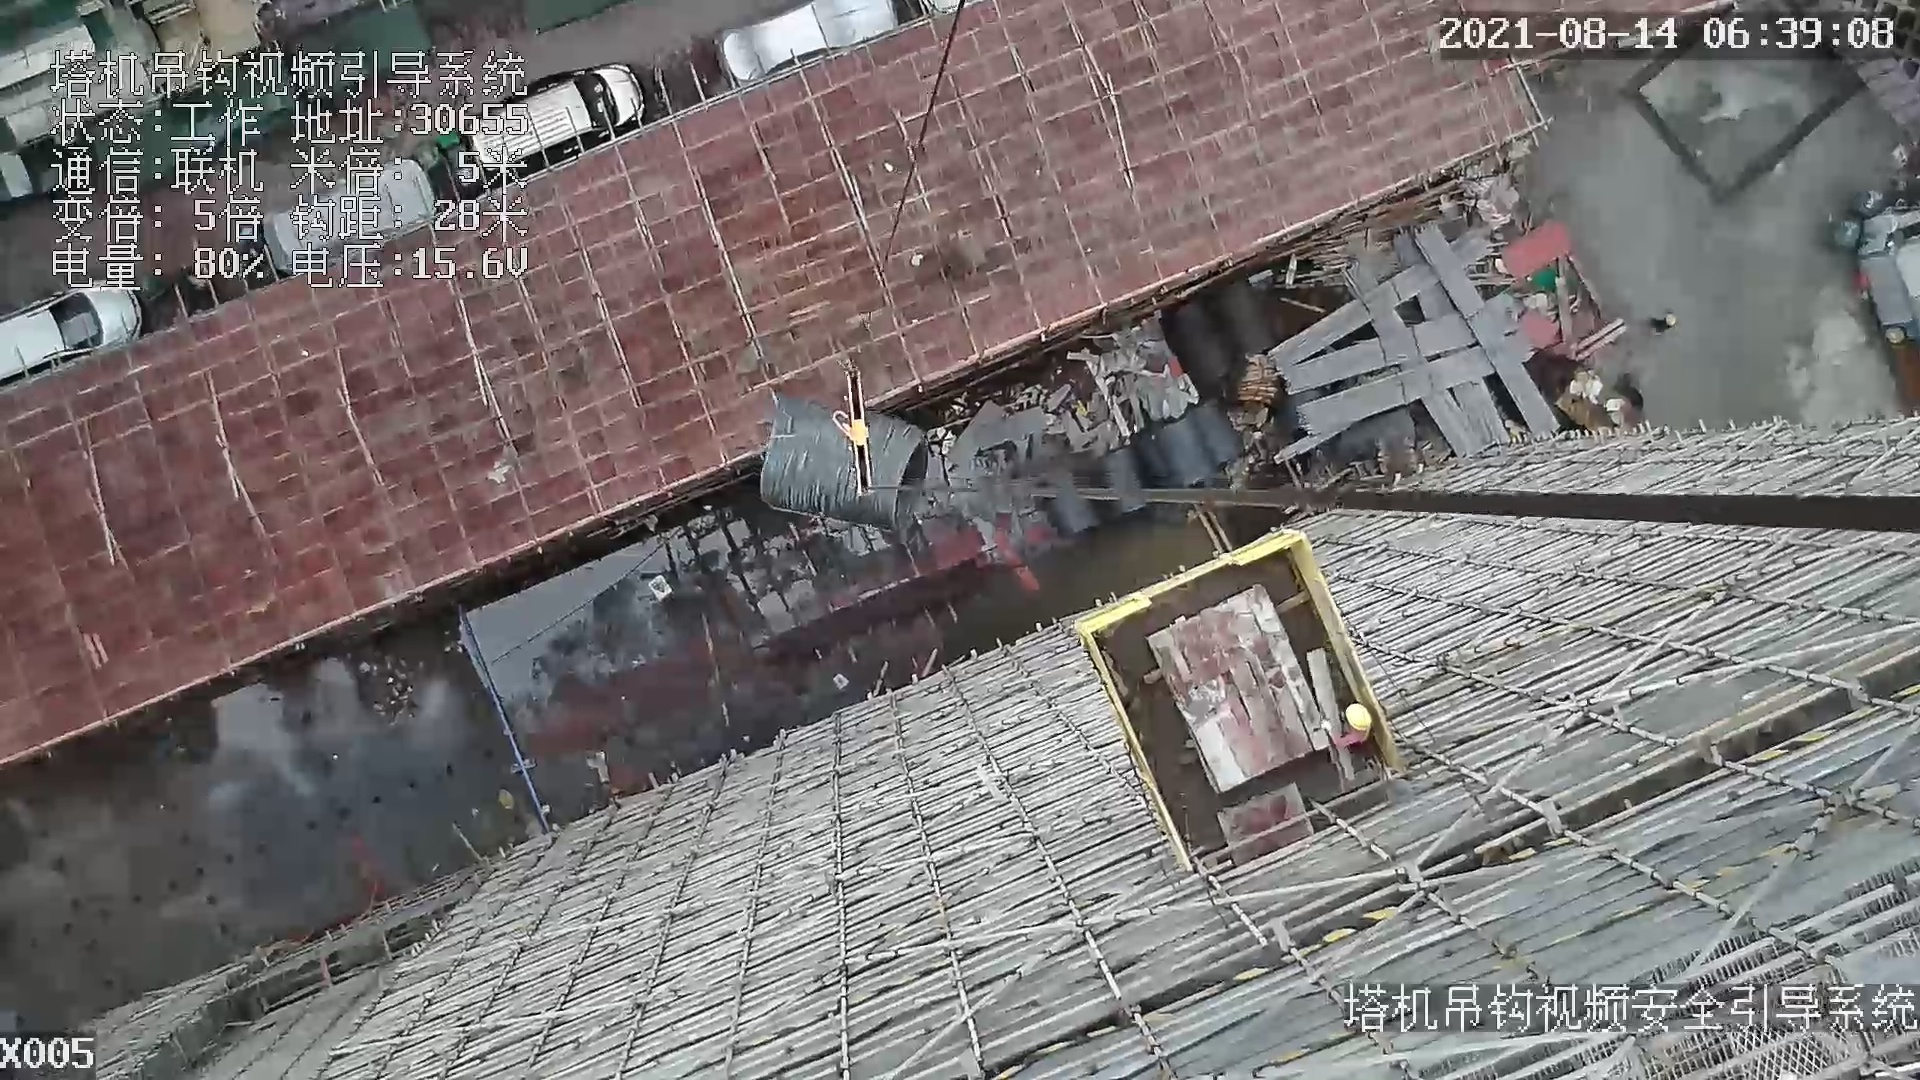helmet: (1345, 700, 1375, 730)
hook: (832, 367, 883, 500)
person: (1329, 695, 1382, 754)
